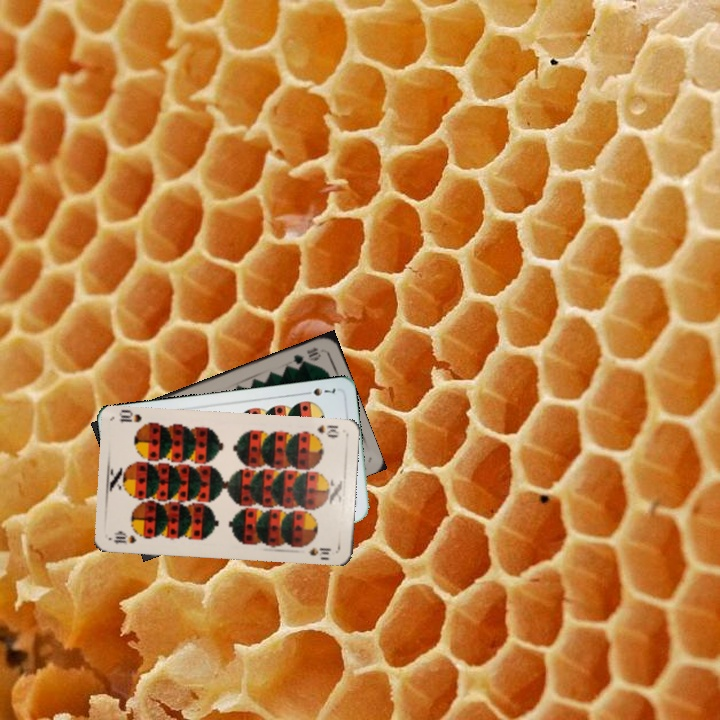G10: (289, 343, 324, 367)
S10: (303, 421, 341, 440), (110, 529, 139, 547)
S7: (299, 384, 338, 399)
